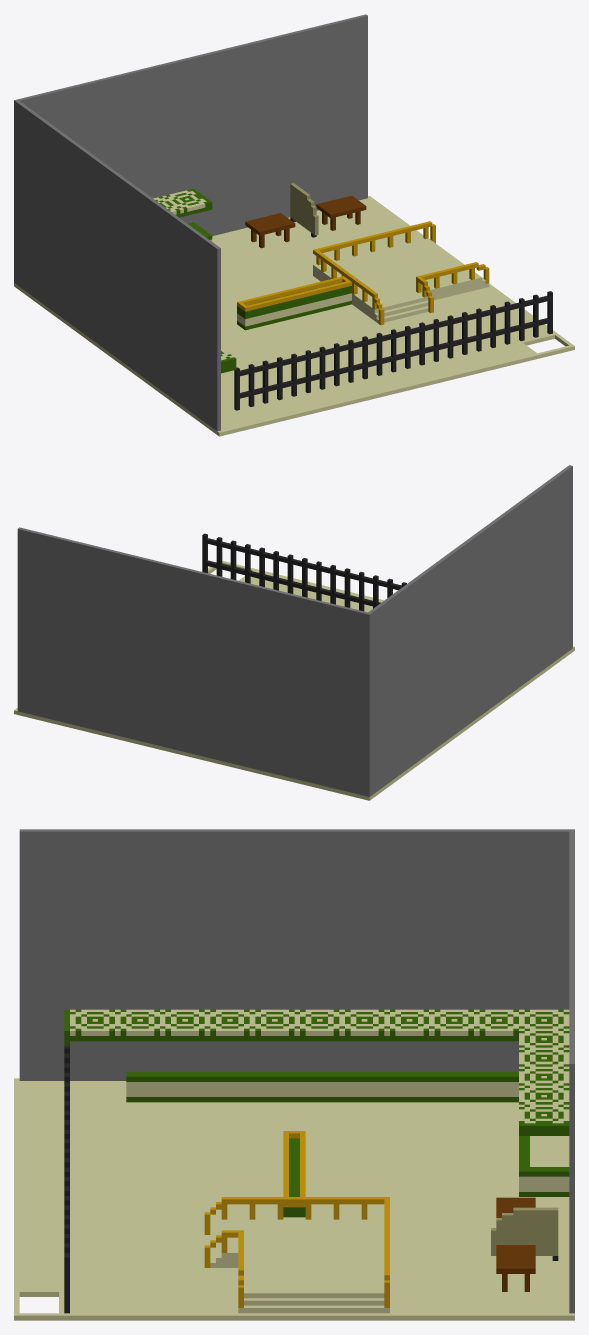
The model's file is Bank-0.obj.
3 renders of one model, top to bottom at view 1: azimuth 30°, elevation 25°; view 2: azimuth 150°, elevation 25°; view 3: azimuth 270°, elevation 25°, orthographic. The views are drawn at different scales.
Visible parts, largest first — view 1: Bank-0; view 2: Bank-0; view 3: Bank-0.
Part boxes in pixels (x1,y1,x2,y2): Bank-0: (14,14,574,436); Bank-0: (14,465,574,800); Bank-0: (14,829,574,1320).
Size of the model in its own units: 100 by 50 by 100.
Materials: 1 (1 with a texture image).
